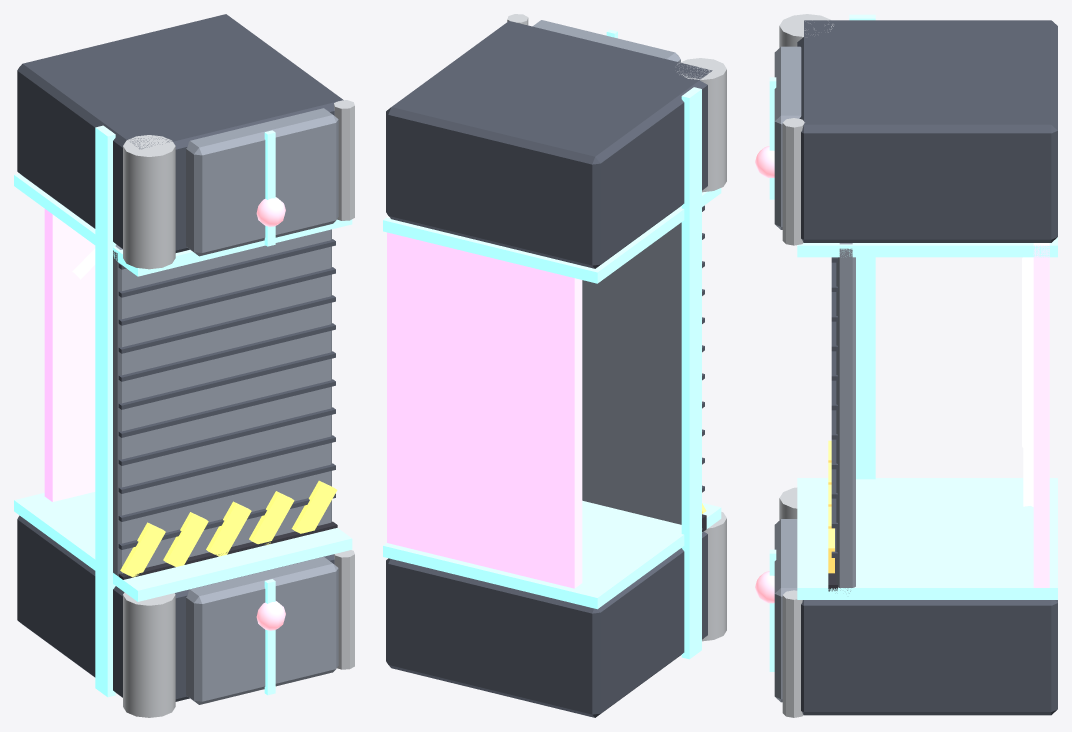
File: warp_gate.glb
3 views of the same model, side by side, from view 1: azimuth 30°, elevation 25°; view 2: azimuth 150°, elevation 25°; view 3: azimuth 270°, elevation 25° (orthographic). The views are drawn at different scales.
Parts seen in each view (by area): view 1: warp_gate, door; view 2: warp_gate, door; view 3: warp_gate, door.
Boxes of the visible parts, x1,y1,x2,y2 form: warp_gate: (14, 14, 354, 717); door: (113, 229, 337, 579); warp_gate: (383, 14, 726, 717); door: (582, 205, 706, 532); warp_gate: (755, 14, 1057, 717); door: (828, 243, 855, 593).
Bounding box in the file's own units: 0.825 × 2 × 0.93.
